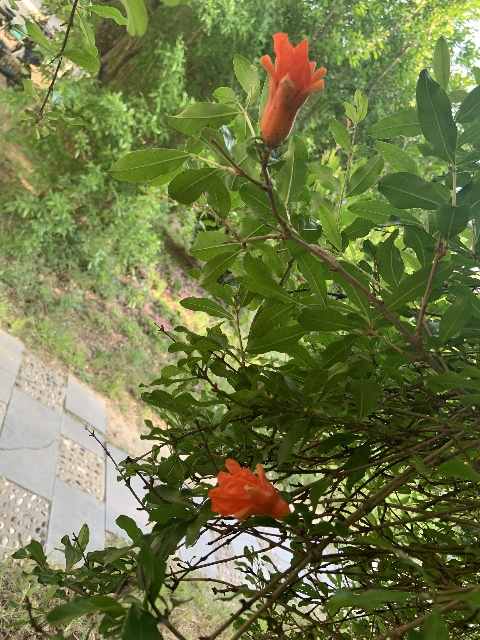flower: (260, 32, 326, 146), (207, 458, 290, 523)
